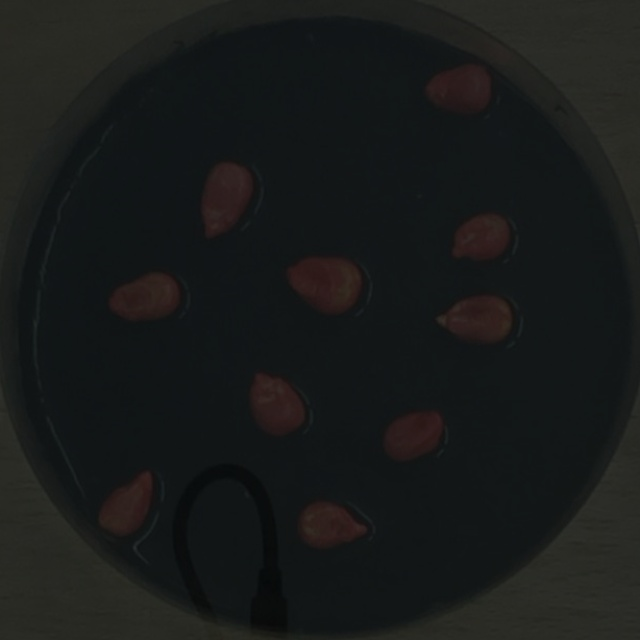Zea mays: (276, 249, 371, 324), (191, 155, 259, 248), (240, 364, 313, 445), (90, 465, 162, 547), (428, 289, 519, 352), (102, 265, 188, 329), (289, 495, 379, 556), (418, 58, 499, 122), (375, 403, 450, 471), (445, 208, 517, 269)
